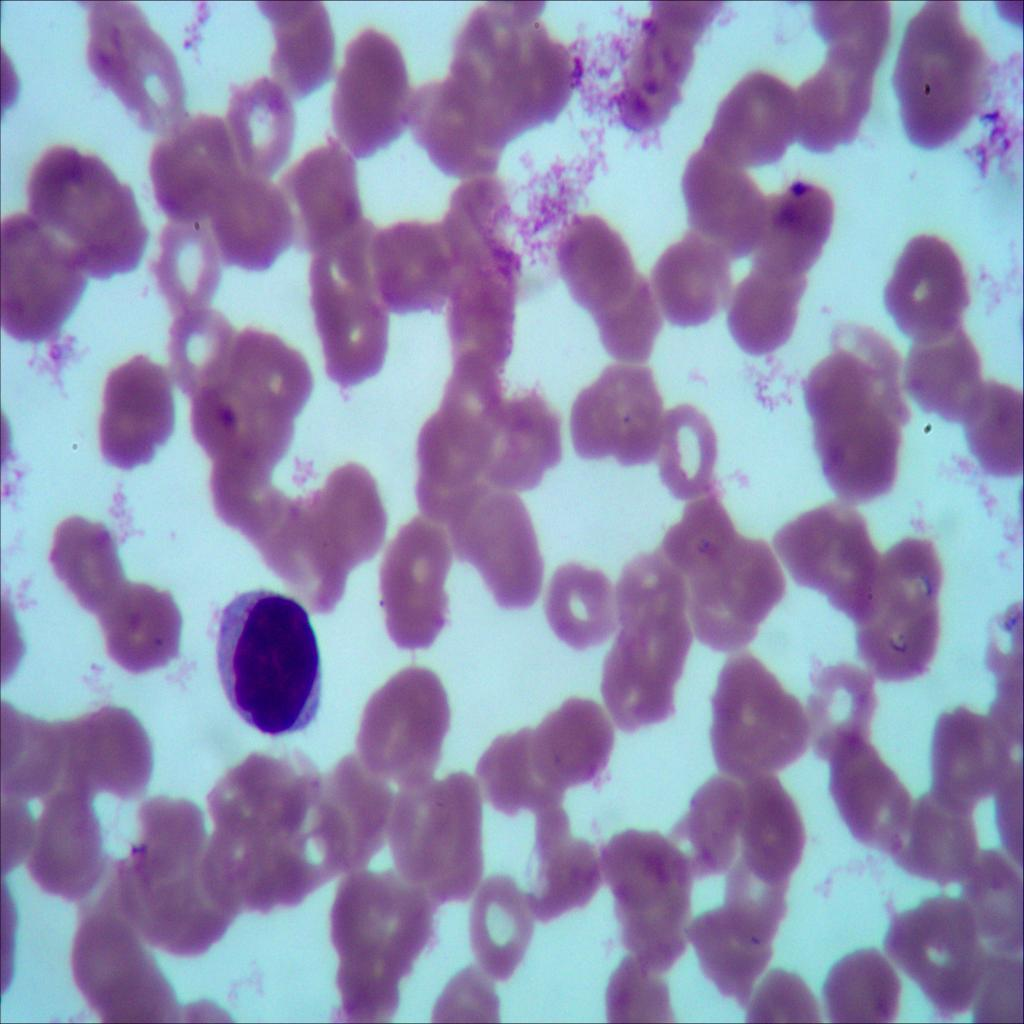Limfosit: (209, 581, 334, 740)
